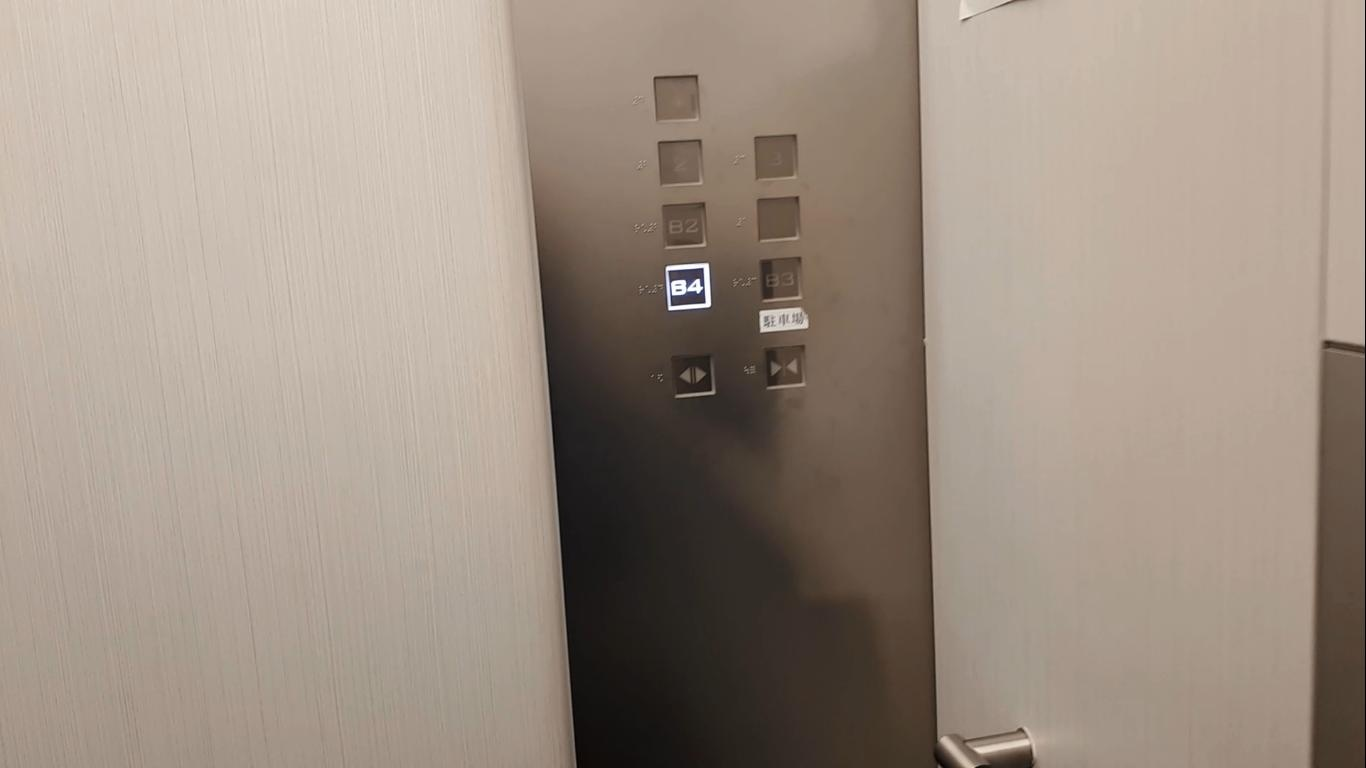2: (655, 136, 705, 185)
3: (752, 132, 800, 181)
B2: (658, 199, 708, 248)
B3: (756, 253, 806, 302)
B4: (663, 261, 713, 310)
close: (760, 340, 810, 389)
empty: (651, 73, 701, 122), (753, 193, 802, 242)
open: (668, 349, 718, 398)
